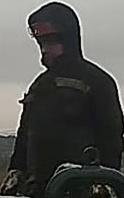gloves: (0, 164, 23, 198)
helmet: (27, 18, 59, 38)
vest: (5, 61, 123, 196)
